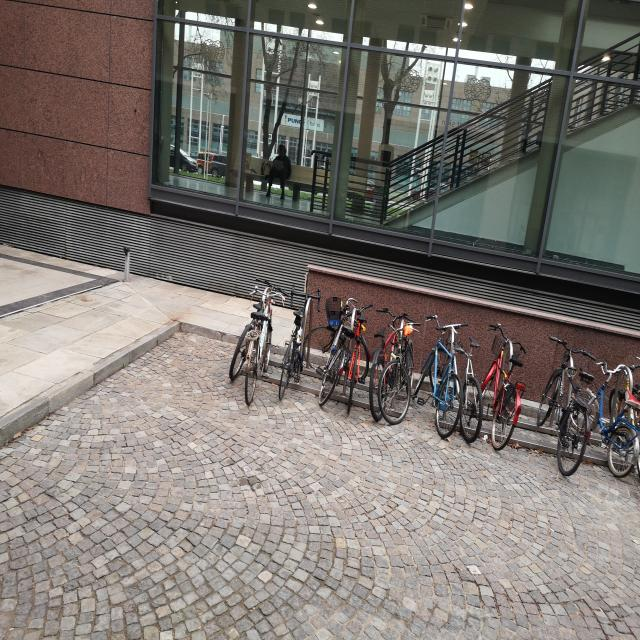Bicycle: (474, 316, 537, 452), (585, 354, 629, 514), (240, 281, 287, 407), (542, 320, 578, 480), (278, 280, 319, 411), (217, 256, 258, 384), (426, 298, 461, 444), (390, 298, 430, 408), (315, 267, 344, 415), (376, 294, 406, 434), (455, 306, 483, 449), (342, 295, 372, 421), (610, 337, 640, 463)
